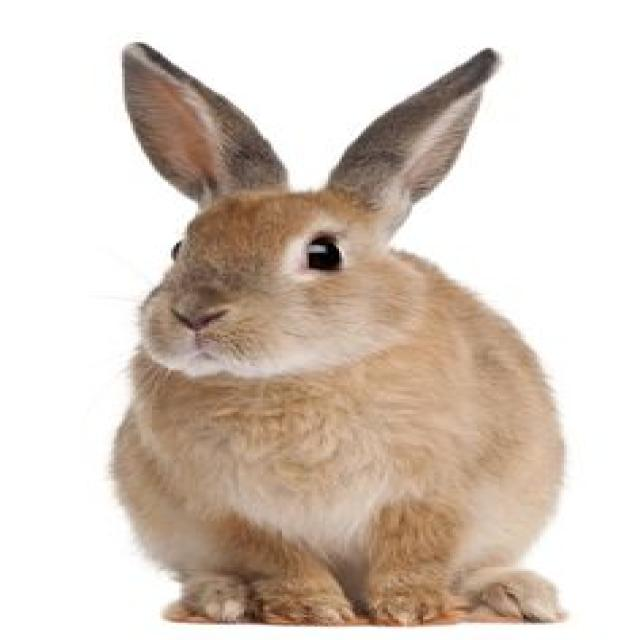Herbivorous: (111, 42, 567, 629)
